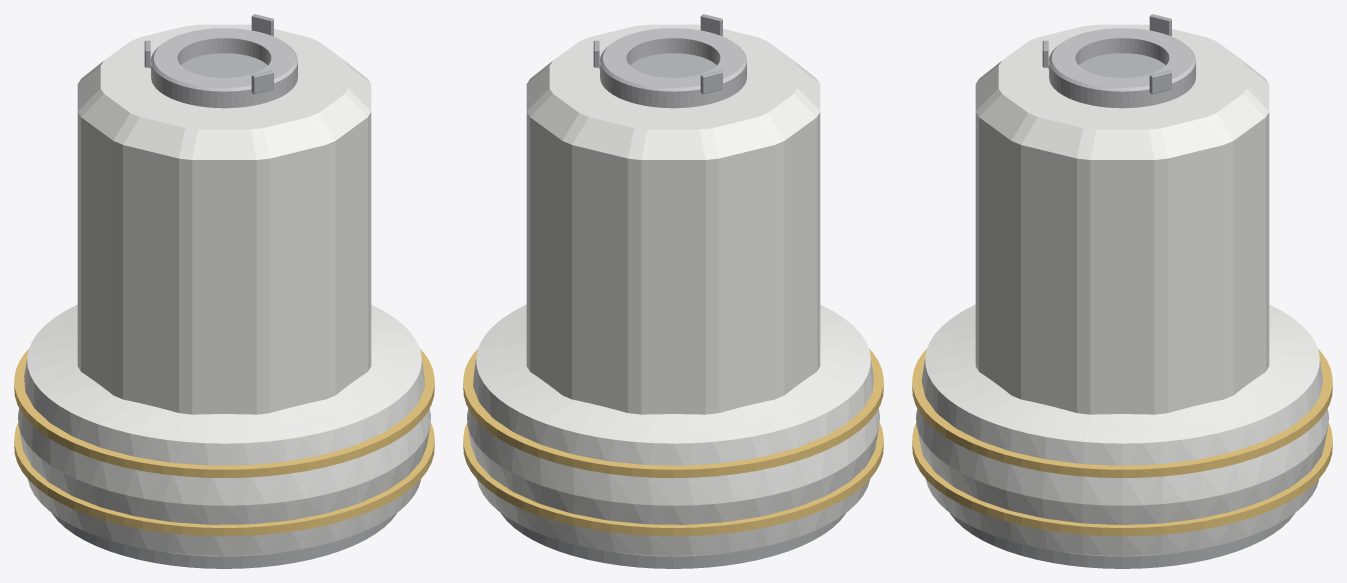
The model's file is ax_station_16_dome.glb.
The picture shows the model from 3 angles, left to right: view 1: azimuth 30°, elevation 25°; view 2: azimuth 150°, elevation 25°; view 3: azimuth 270°, elevation 25°; orthographic projection.
Parts seen in each view (by area): view 1: rigid_core, membrane_stowed, restraint_bands, port_top, core_footing, hatch_door_1, port_top_petals; view 2: rigid_core, membrane_stowed, restraint_bands, port_top, core_footing, hatch_door_1, port_top_petals; view 3: rigid_core, membrane_stowed, restraint_bands, port_top, core_footing, hatch_door_1, port_top_petals.
Part boxes in pixels (x1=…): rigid_core: x1=77, y1=24, x2=371, y2=414; membrane_stowed: x1=18, y1=304, x2=430, y2=555; restraint_bands: x1=14, y1=349, x2=434, y2=536; port_top: x1=151, y1=28, x2=297, y2=108; core_footing: x1=52, y1=513, x2=396, y2=568; hatch_door_1: x1=181, y1=53, x2=267, y2=77; port_top_petals: x1=144, y1=14, x2=273, y2=94; rigid_core: x1=526, y1=24, x2=820, y2=414; membrane_stowed: x1=467, y1=304, x2=879, y2=555; restraint_bands: x1=463, y1=349, x2=883, y2=536; port_top: x1=600, y1=28, x2=746, y2=108; core_footing: x1=501, y1=513, x2=845, y2=568; hatch_door_1: x1=630, y1=53, x2=716, y2=77; port_top_petals: x1=593, y1=14, x2=722, y2=94; rigid_core: x1=975, y1=24, x2=1269, y2=414; membrane_stowed: x1=916, y1=304, x2=1328, y2=555; restraint_bands: x1=912, y1=349, x2=1332, y2=536; port_top: x1=1049, y1=28, x2=1195, y2=108; core_footing: x1=950, y1=513, x2=1294, y2=568; hatch_door_1: x1=1079, y1=53, x2=1165, y2=77; port_top_petals: x1=1042, y1=14, x2=1171, y2=94.
Size of the model in its own units: 4.58 by 5.38 by 4.58.
